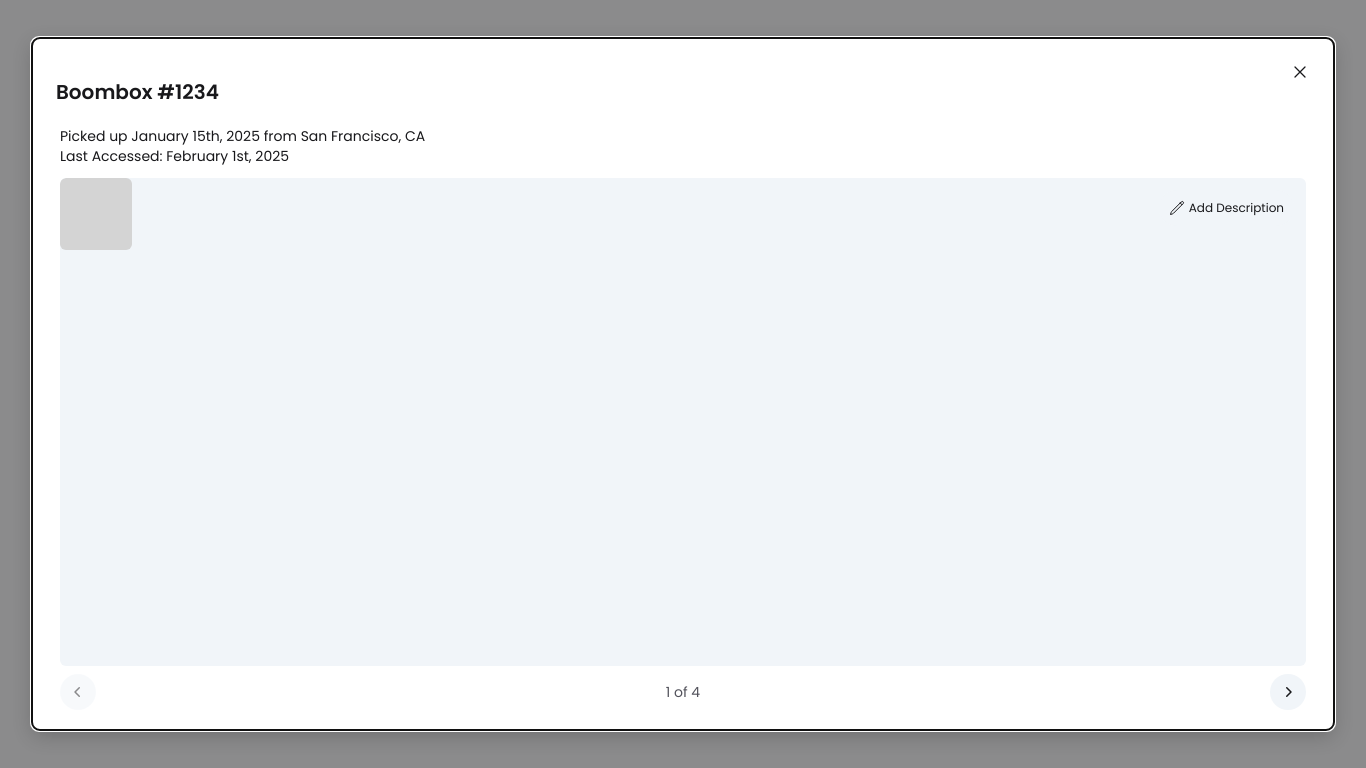
Test: StorageUnitPopup › Accessibility › updates aria-label when description is visible
This screenshot has width=1366, height=768.
Click the button with aria-label "Show description editor": (1226, 208) [1159, 190, 1294, 226]
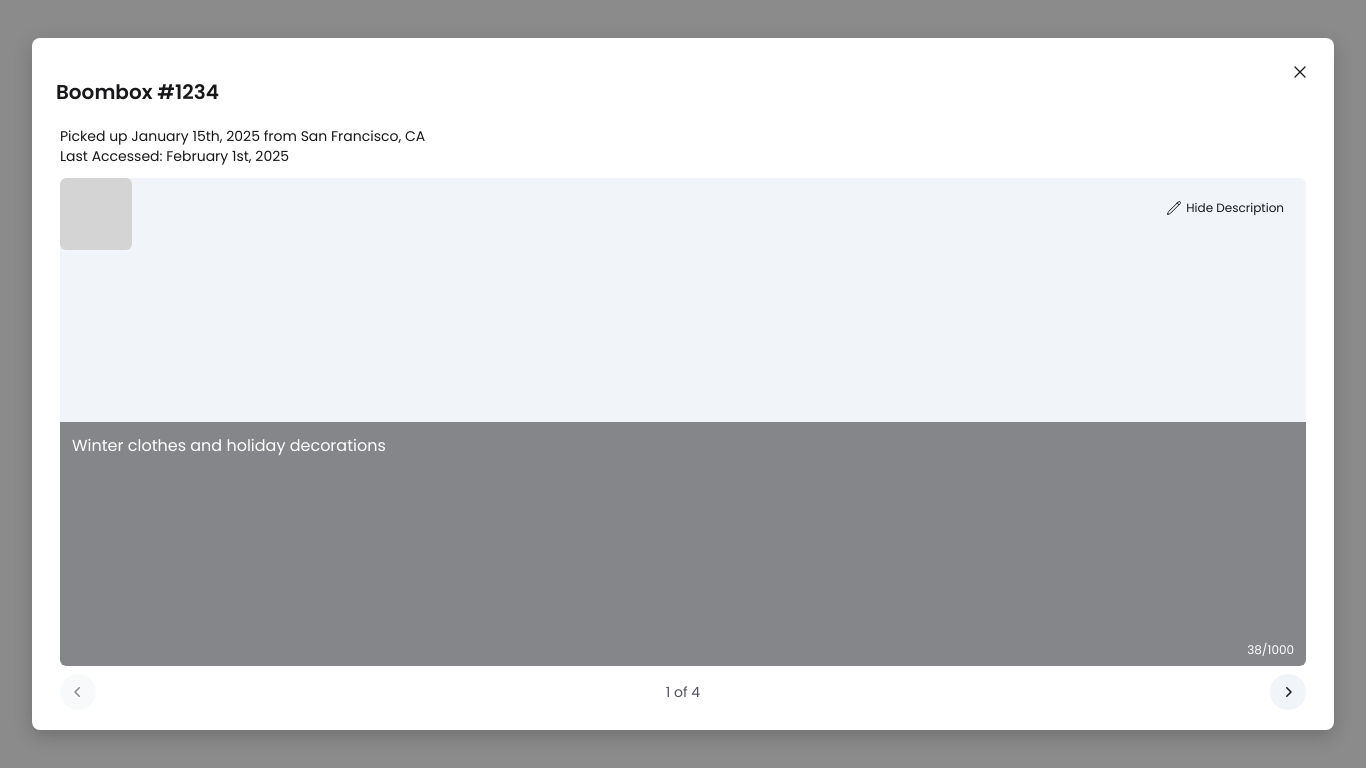
Now the button with aria-label "Hide description editor" is shown, box [1156, 190, 1294, 226]
